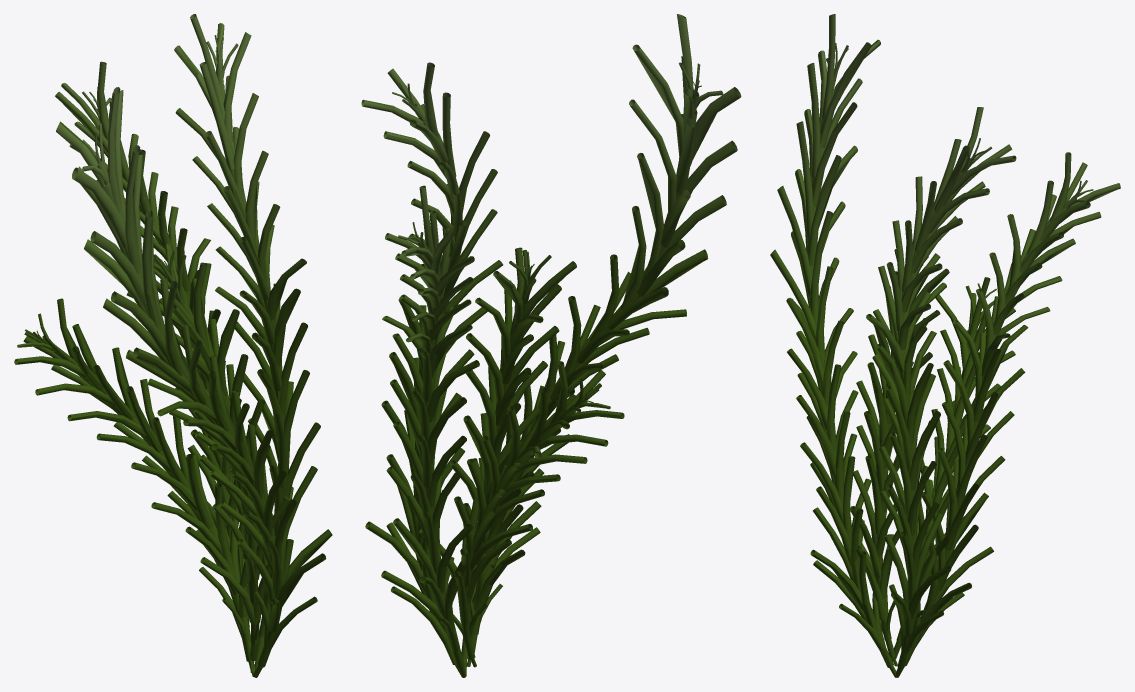
The model's file is plant_53.fbx.
3 views of the same model, side by side, from view 1: azimuth 30°, elevation 25°; view 2: azimuth 150°, elevation 25°; view 3: azimuth 270°, elevation 25° (orthographic). The views are drawn at different scales.
Parts seen in each view (by area): view 1: aqua14; view 2: aqua14; view 3: aqua14.
Boxes of the visible parts, x1,y1,x2,y2 form: aqua14: (14, 14, 332, 677); aqua14: (361, 14, 741, 677); aqua14: (770, 14, 1120, 677).
Bounding box in the file's own units: 3.93 × 8.21 × 4.44.
